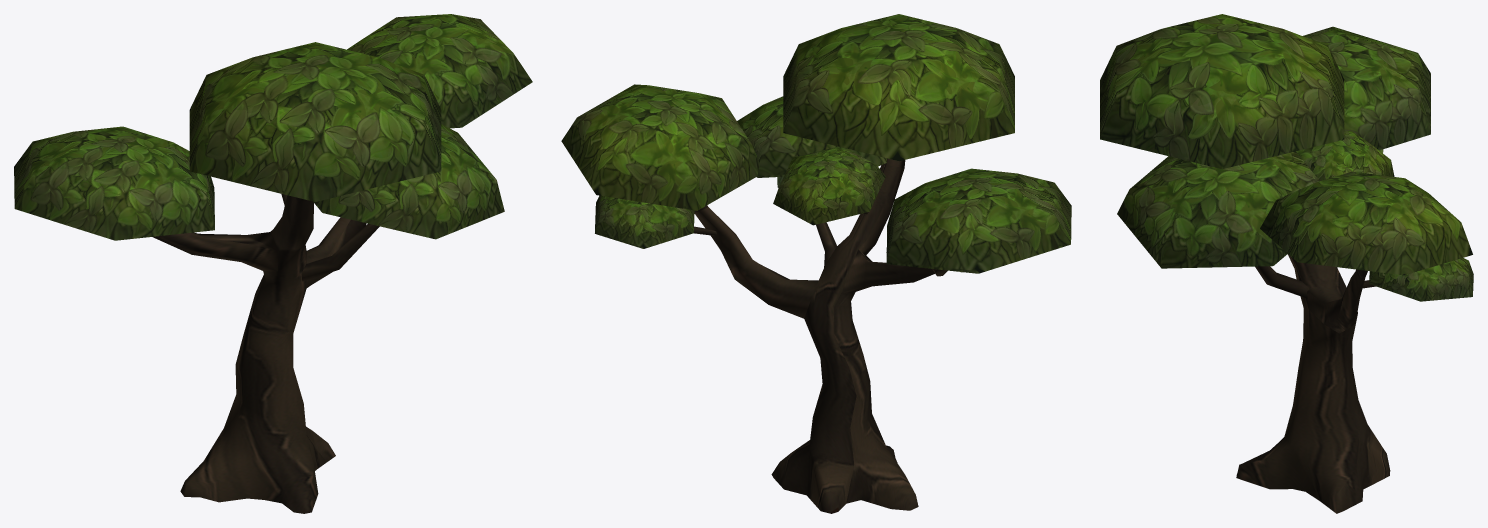
Rendered from fanasty_mod_leaftree01.fbx.
3 views of the same model, side by side, from view 1: azimuth 30°, elevation 25°; view 2: azimuth 150°, elevation 25°; view 3: azimuth 270°, elevation 25° (orthographic). The views are drawn at different scales.
Parts seen in each view (by area): view 1: leaftree_01; view 2: leaftree_01; view 3: leaftree_01.
Part boxes in pixels (x1,y1,x2,y2): leaftree_01: (14,14,532,513); leaftree_01: (561,14,1071,513); leaftree_01: (1100,14,1473,513).
Bounding box in the file's own units: 9.62 × 8.12 × 6.21.
